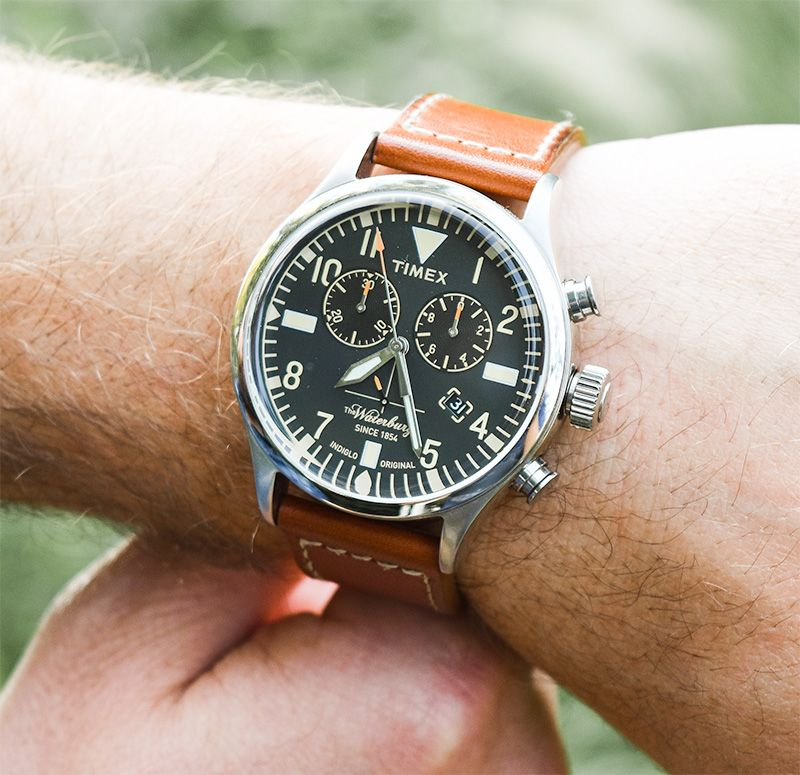clock: (229, 172, 574, 526)
